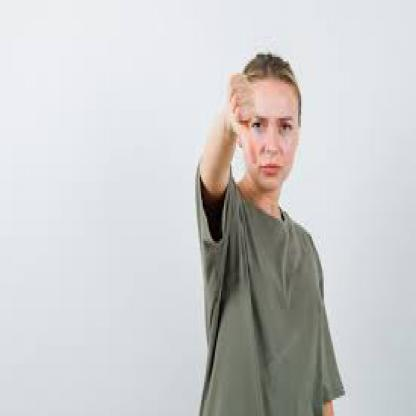Thumbs Down: (218, 64, 266, 179)
